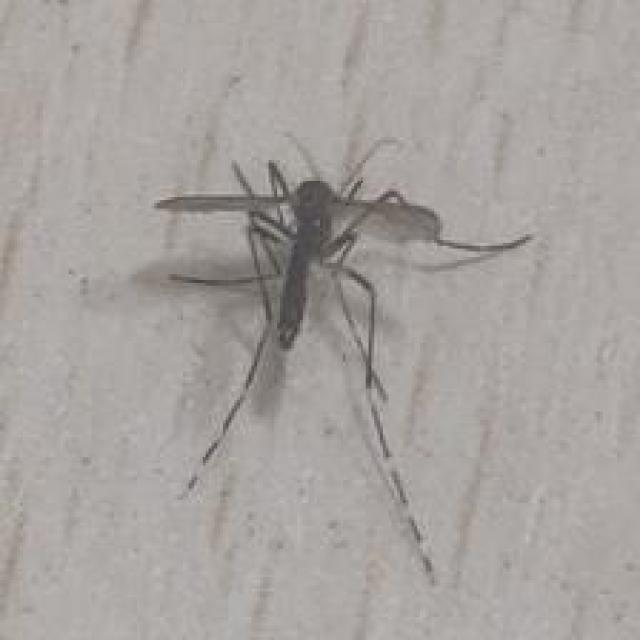Aedes albopictus: (152, 0, 534, 586)
